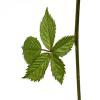Raspberry leaf: (20, 52, 51, 82), (40, 5, 57, 51), (51, 34, 77, 58), (20, 36, 41, 65), (50, 52, 66, 85)
